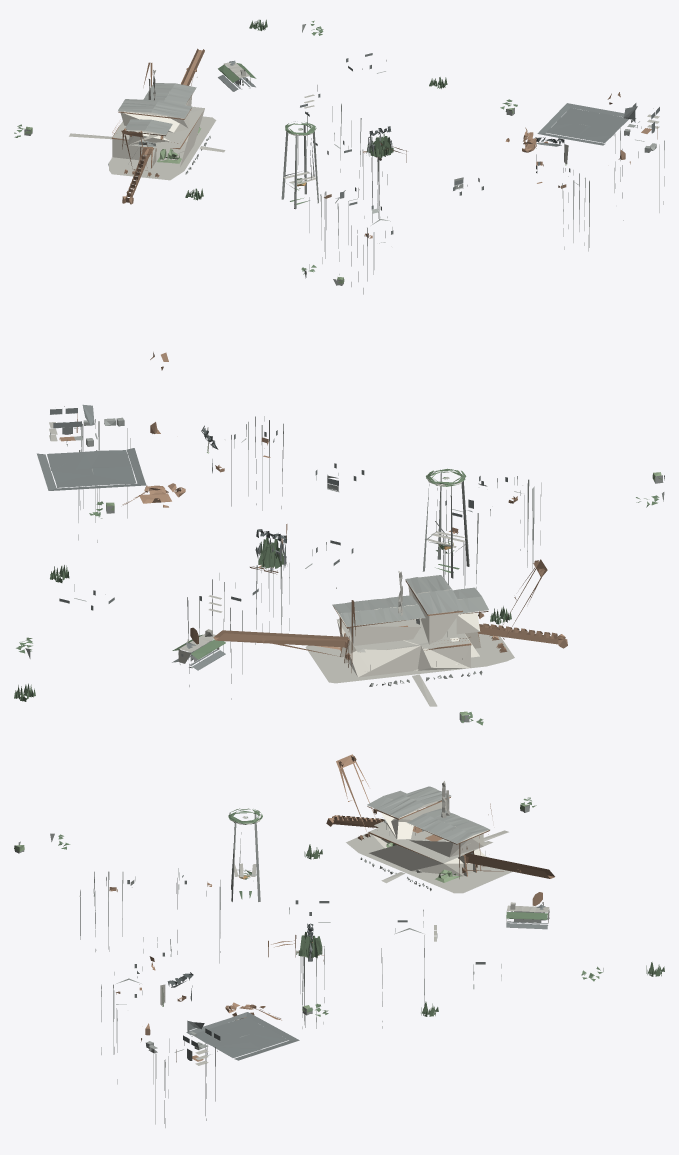
File: bandit_town.glb
3 renders of one model, top to bottom at view 1: azimuth 30°, elevation 25°; view 2: azimuth 150°, elevation 25°; view 3: azimuth 270°, elevation 25°, orthographic. The views are drawn at different scales.
Parts seen in each view (by area): view 1: Shelf1v2_LOD0, wooden_walkway_large_edge_corner_600x600_LOD0, WoodenSign_LOD0, wooden_walkway_large_edge_300_b_LOD0, Clutter_medium_c_LOD0, reeds_tall_LOD0; view 2: Shelf1v2_LOD0, Clutter_medium_c_LOD0, WoodenSign_LOD0, wooden_walkway_large_edge_corner_600x600_LOD0, wooden_walkway_large_edge_300_b_LOD0, reeds_tall_LOD0; view 3: Shelf1v2_LOD0, wooden_walkway_large_edge_corner_600x600_LOD0, WoodenSign_LOD0, wooden_walkway_large_edge_300_b_LOD0, Clutter_medium_c_LOD0, reeds_tall_LOD0.
Boxes of the visible parts, box(x1,y1,x2,y2) form: Shelf1v2_LOD0: box(24, 24, 664, 294); wooden_walkway_large_edge_corner_600x600_LOD0: box(69, 62, 659, 246); WoodenSign_LOD0: box(218, 53, 659, 234); wooden_walkway_large_edge_300_b_LOD0: box(111, 48, 657, 238); Clutter_medium_c_LOD0: box(112, 95, 204, 166); reeds_tall_LOD0: box(14, 19, 517, 274); Shelf1v2_LOD0: box(26, 406, 664, 722); Clutter_medium_c_LOD0: box(269, 567, 480, 677); WoodenSign_LOD0: box(37, 404, 507, 670); wooden_walkway_large_edge_corner_600x600_LOD0: box(49, 422, 523, 706); wooden_walkway_large_edge_300_b_LOD0: box(59, 352, 567, 672); reeds_tall_LOD0: box(14, 468, 659, 725); Shelf1v2_LOD0: box(14, 786, 603, 1127); wooden_walkway_large_edge_corner_600x600_LOD0: box(79, 781, 549, 1065); WoodenSign_LOD0: box(127, 875, 549, 1060); wooden_walkway_large_edge_300_b_LOD0: box(109, 754, 554, 1062); Clutter_medium_c_LOD0: box(311, 798, 489, 958); reeds_tall_LOD0: box(58, 797, 664, 1016).
Bounding box in the file's own units: 132 × 38.95 × 138.
